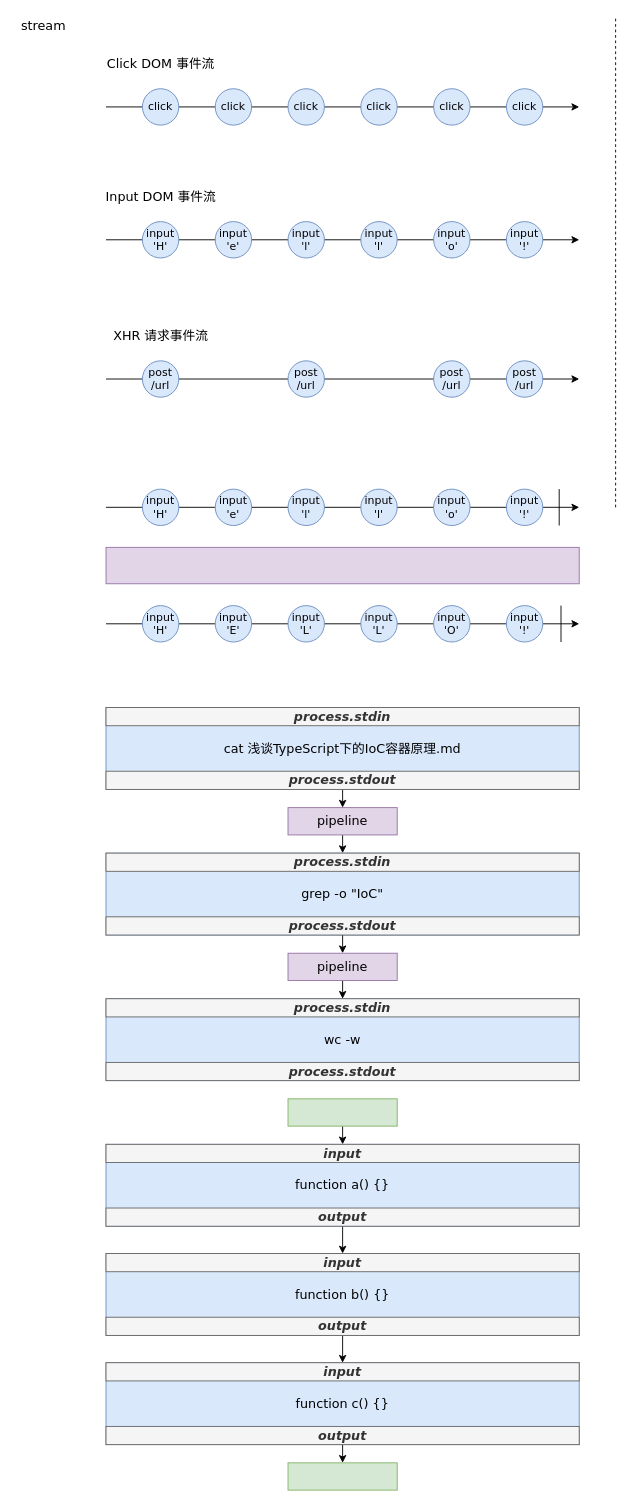
The diagram is 632 pixels wide and 1506 high, and some of its shapes have lost their labels. The shapes that lost their labels are listed below. From the top down, each one's box as (x1, y1, x2, y2) in pixels, then its label:
(105, 546, 579, 584): map UpperCase
(287, 1098, 397, 1126): input value
(287, 1462, 397, 1490): output value
